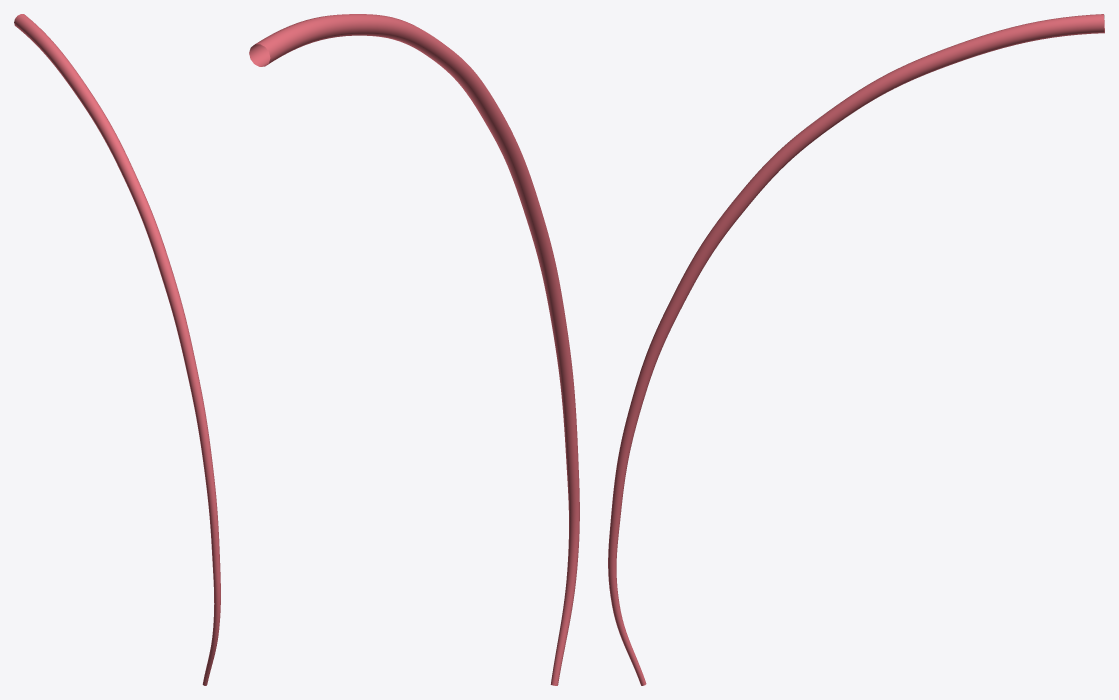
3 renders of one model, left to right at view 1: azimuth 30°, elevation 25°; view 2: azimuth 150°, elevation 25°; view 3: azimuth 270°, elevation 25°, orthographic. The views are drawn at different scales.
Parts seen in each view (by area): view 1: ZA_607bf1166cd5a581; view 2: ZA_607bf1166cd5a581; view 3: ZA_607bf1166cd5a581.
Part boxes in pixels (bbox=[...]): ZA_607bf1166cd5a581: bbox=[14, 14, 220, 685]; ZA_607bf1166cd5a581: bbox=[249, 14, 579, 685]; ZA_607bf1166cd5a581: bbox=[608, 14, 1104, 685].
Size of the model in its own units: 0.002 by 0.0767 by 0.0515.
